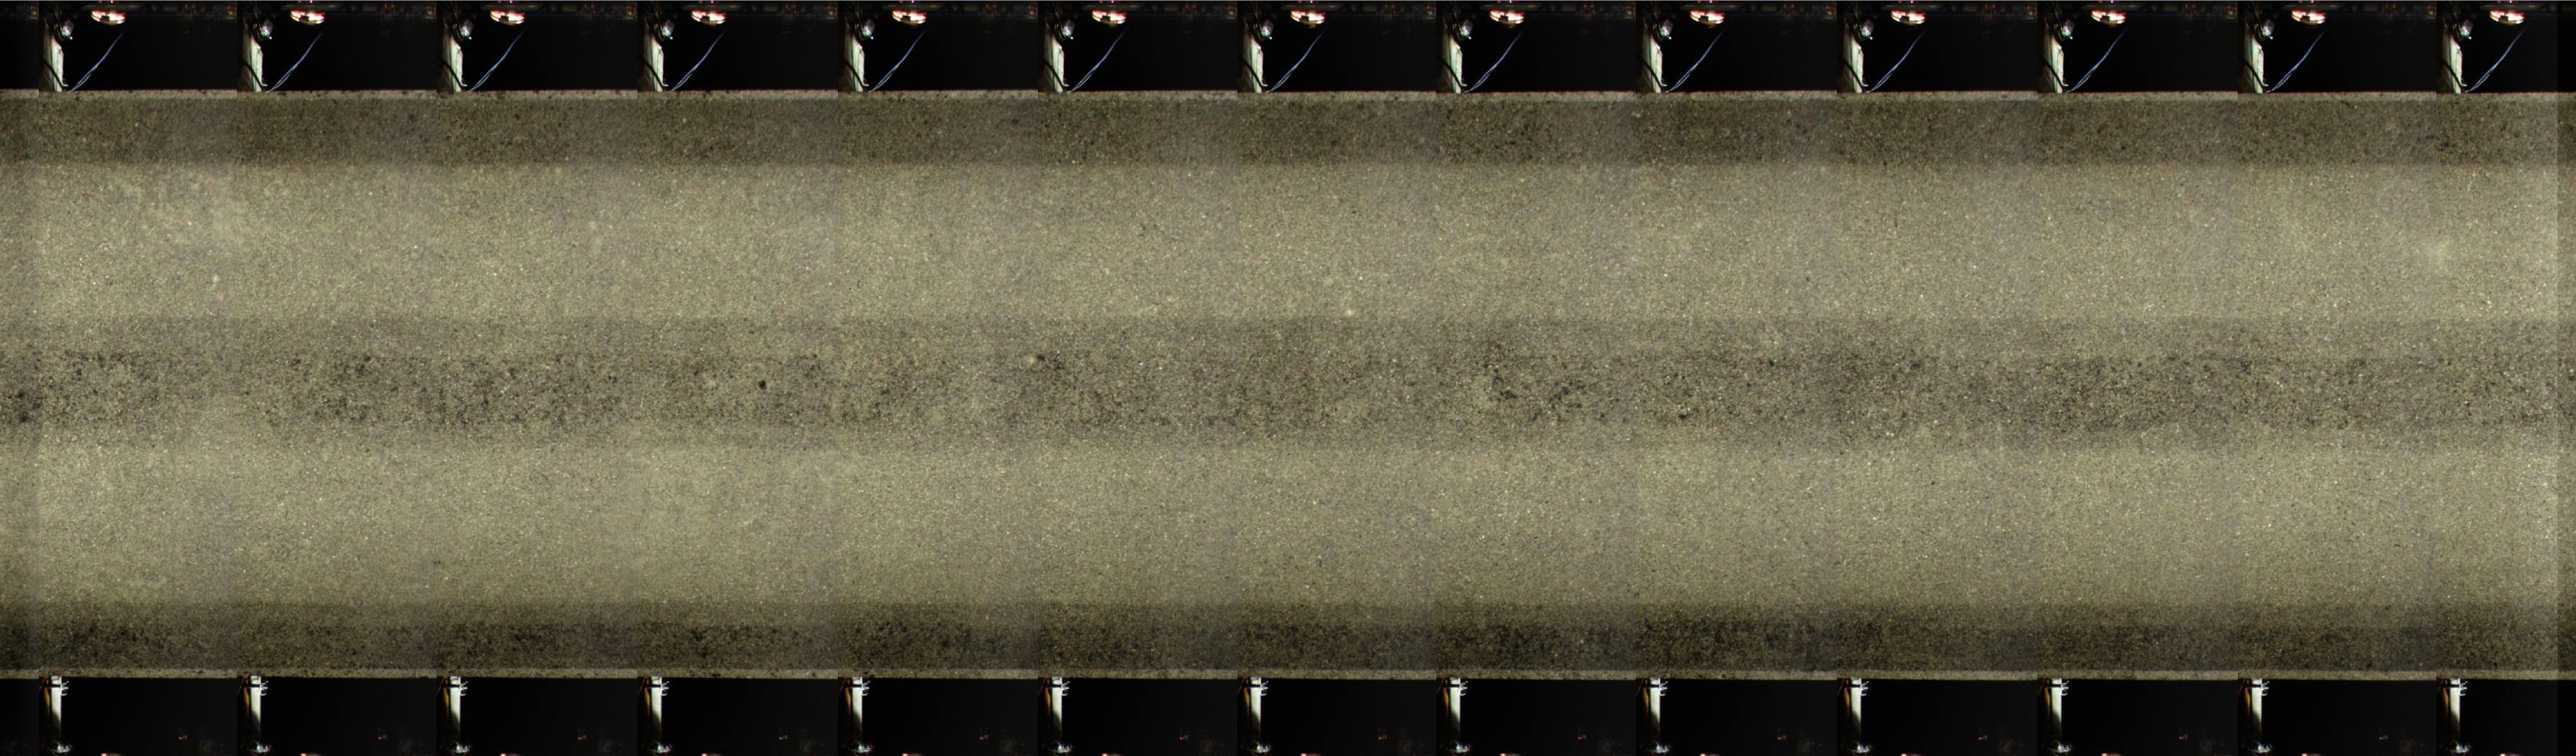concrete: (3, 92, 2563, 677)
